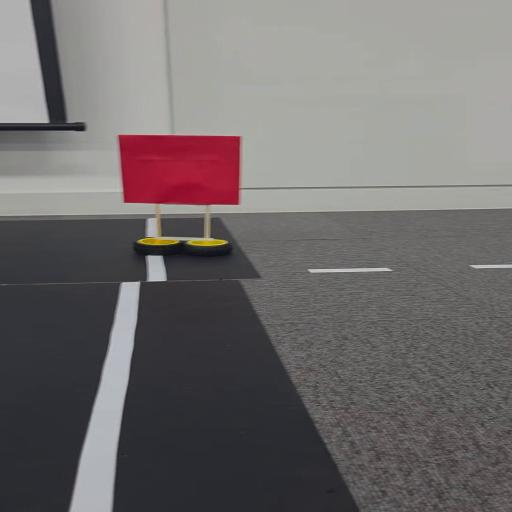Sign_A: (110, 132, 254, 264)
